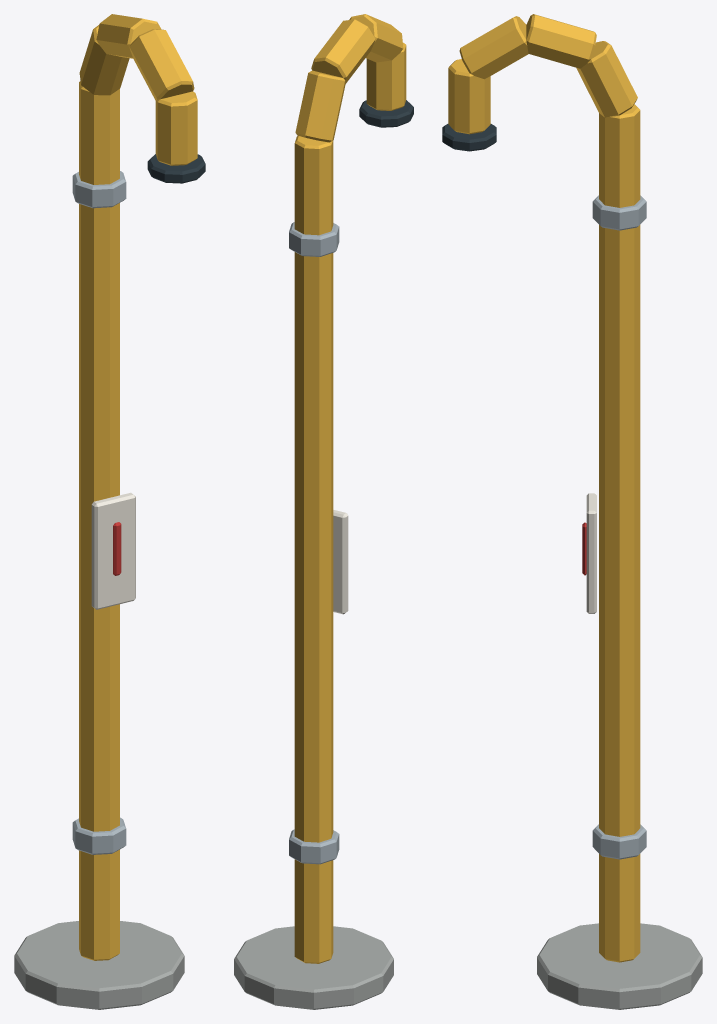
The model's file is b05_gas_vent_riser.glb.
3 views of the same model, side by side, from view 1: azimuth 30°, elevation 25°; view 2: azimuth 150°, elevation 25°; view 3: azimuth 270°, elevation 25° (orthographic). The views are drawn at different scales.
Parts seen in each view (by area): view 1: b05_gas_vent_riser; view 2: b05_gas_vent_riser; view 3: b05_gas_vent_riser.
Boxes of the visible parts, left/top/right/bottom form: b05_gas_vent_riser: left=14, top=14, right=205, bottom=1009; b05_gas_vent_riser: left=234, top=14, right=413, bottom=1009; b05_gas_vent_riser: left=442, top=14, right=702, bottom=1009.
Size of the model in its own units: 0.32 by 2.05 by 0.5023.
